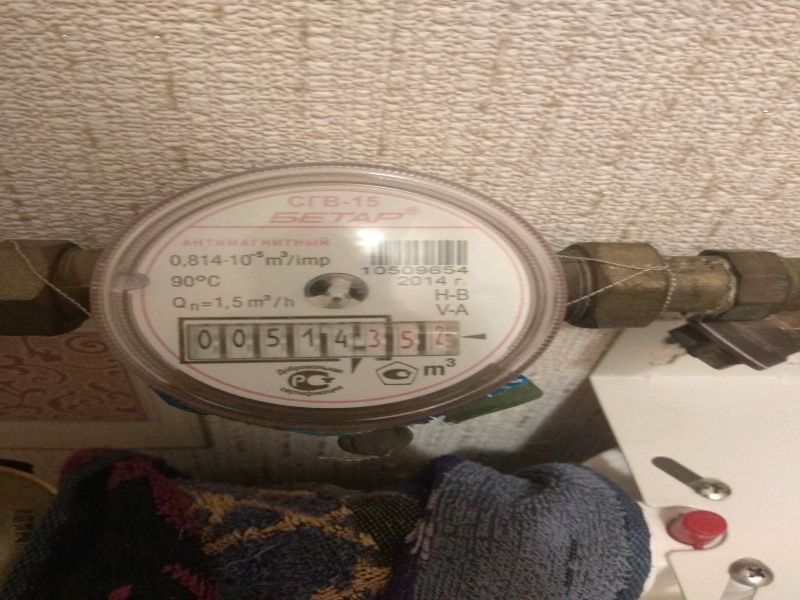meter: (177, 315, 458, 356)
